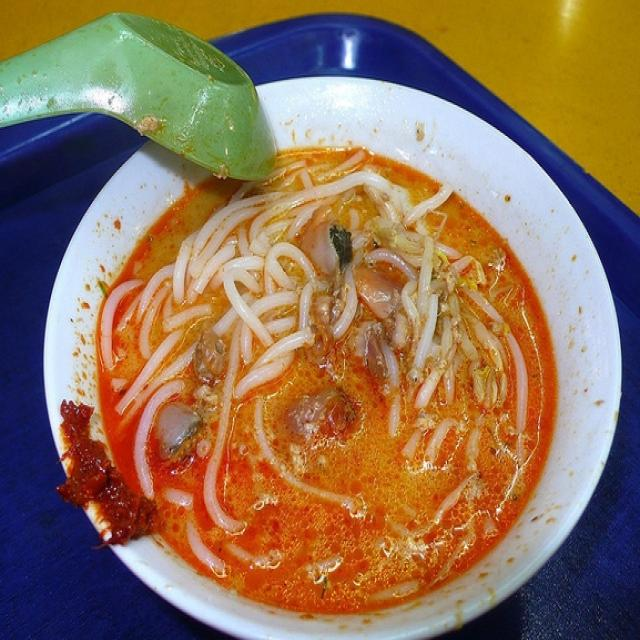面条主食: (63, 98, 591, 620)
